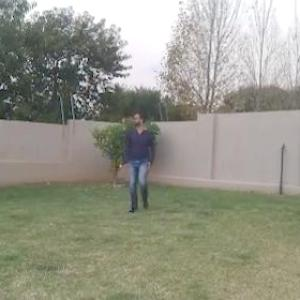follow: (124, 107, 152, 218)
